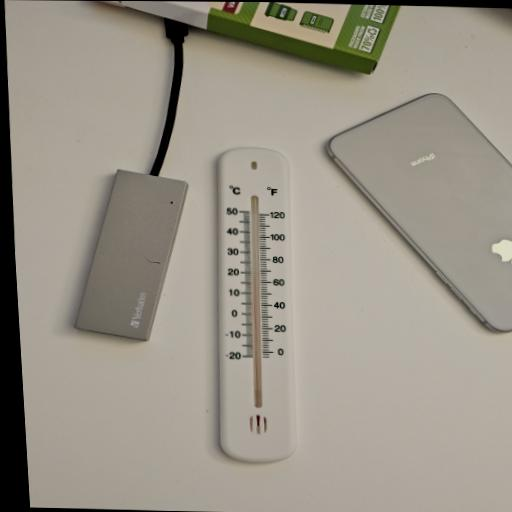thermometer: (202, 145, 309, 464)
